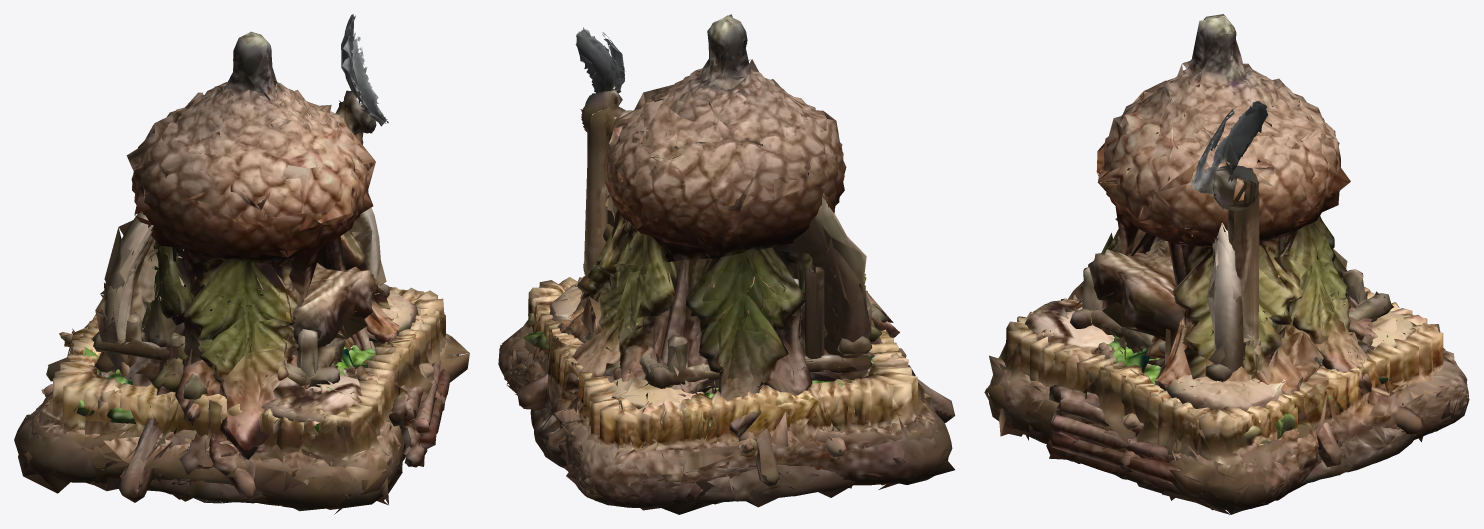
Rendered from Village.glb.
3 renders of one model, left to right at view 1: azimuth 30°, elevation 25°; view 2: azimuth 150°, elevation 25°; view 3: azimuth 270°, elevation 25°, orthographic.
Parts seen in each view (by area): view 1: 01_0_Tent, 01_1_Tent, 16_0_GrainPlot, 18_0_MushroomPlot, 16_1_GrainPlot, 01_2_Tent, 03_0_Burrow, 02_0_AphidPen, 00_0_Shield, 05_0_ConstructionSite, 00_1_Shield, 16_2_GrainPlot (+12 smaller); view 2: 01_0_Tent, 16_0_GrainPlot, 01_1_Tent, 16_1_GrainPlot, 18_0_MushroomPlot, 01_2_Tent, 16_2_GrainPlot, 00_0_Shield, 19_0_FishingRod, 18_1_MushroomPlot, 03_0_Burrow, 02_0_AphidPen (+9 smaller); view 3: 01_0_Tent, 16_0_GrainPlot, 01_1_Tent, 16_1_GrainPlot, 18_0_MushroomPlot, 01_2_Tent, 03_0_Burrow, 05_0_ConstructionSite, 16_2_GrainPlot, 02_0_AphidPen, 19_0_FishingRod, 18_1_MushroomPlot (+11 smaller).
Boxes of the visible parts, bbox=[...] form: 01_0_Tent: bbox=[46, 31, 445, 502]; 01_1_Tent: bbox=[48, 34, 389, 486]; 16_0_GrainPlot: bbox=[14, 287, 459, 507]; 18_0_MushroomPlot: bbox=[31, 290, 418, 509]; 16_1_GrainPlot: bbox=[18, 289, 469, 514]; 01_2_Tent: bbox=[100, 66, 390, 485]; 03_0_Burrow: bbox=[141, 265, 377, 503]; 02_0_AphidPen: bbox=[93, 283, 389, 395]; 00_0_Shield: bbox=[103, 165, 380, 371]; 05_0_ConstructionSite: bbox=[389, 358, 450, 467]; 00_1_Shield: bbox=[95, 199, 386, 357]; 16_2_GrainPlot: bbox=[23, 309, 451, 513]; 01_0_Tent: bbox=[517, 15, 955, 486]; 16_0_GrainPlot: bbox=[498, 277, 952, 507]; 01_1_Tent: bbox=[515, 14, 942, 481]; 16_1_GrainPlot: bbox=[500, 277, 954, 510]; 18_0_MushroomPlot: bbox=[508, 283, 938, 507]; 01_2_Tent: bbox=[533, 47, 943, 413]; 16_2_GrainPlot: bbox=[507, 277, 945, 509]; 00_0_Shield: bbox=[607, 137, 867, 366]; 19_0_FishingRod: bbox=[575, 27, 658, 292]; 18_1_MushroomPlot: bbox=[517, 286, 939, 514]; 03_0_Burrow: bbox=[530, 223, 915, 502]; 02_0_AphidPen: bbox=[625, 316, 872, 397]; 01_0_Tent: bbox=[1079, 14, 1422, 472]; 16_0_GrainPlot: bbox=[1004, 291, 1468, 511]; 01_1_Tent: bbox=[1068, 20, 1416, 463]; 16_1_GrainPlot: bbox=[984, 287, 1458, 514]; 18_0_MushroomPlot: bbox=[989, 299, 1469, 508]; 01_2_Tent: bbox=[1096, 36, 1410, 441]; 03_0_Burrow: bbox=[1092, 230, 1415, 488]; 05_0_ConstructionSite: bbox=[1046, 385, 1183, 495]; 16_2_GrainPlot: bbox=[987, 334, 1461, 510]; 02_0_AphidPen: bbox=[1070, 267, 1391, 381]; 19_0_FishingRod: bbox=[1191, 101, 1267, 381]; 18_1_MushroomPlot: bbox=[989, 304, 1467, 505].
Size of the model in its own units: 0.1462 by 0.1344 by 0.1379.
1 material, 1 textured.
